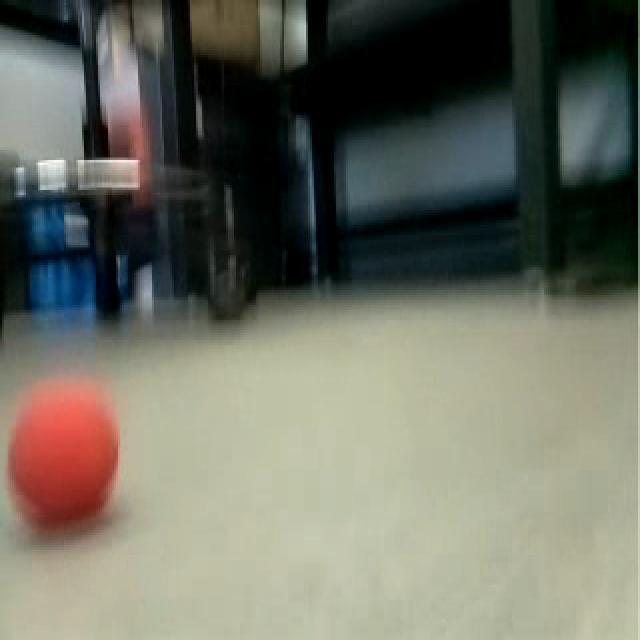oball: (4, 379, 125, 528)
